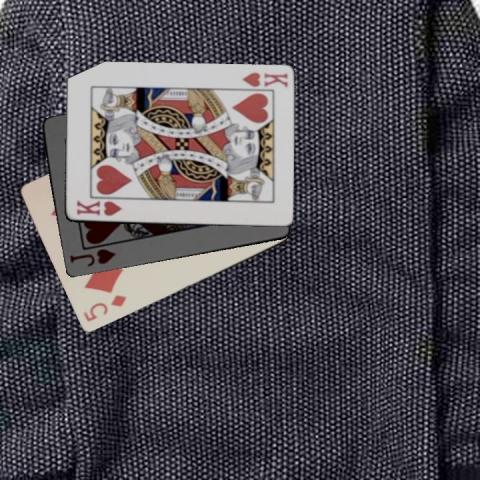5d: (80, 292, 129, 323)
Jh: (66, 246, 117, 269)
Kh: (238, 69, 288, 89), (73, 198, 123, 217)
